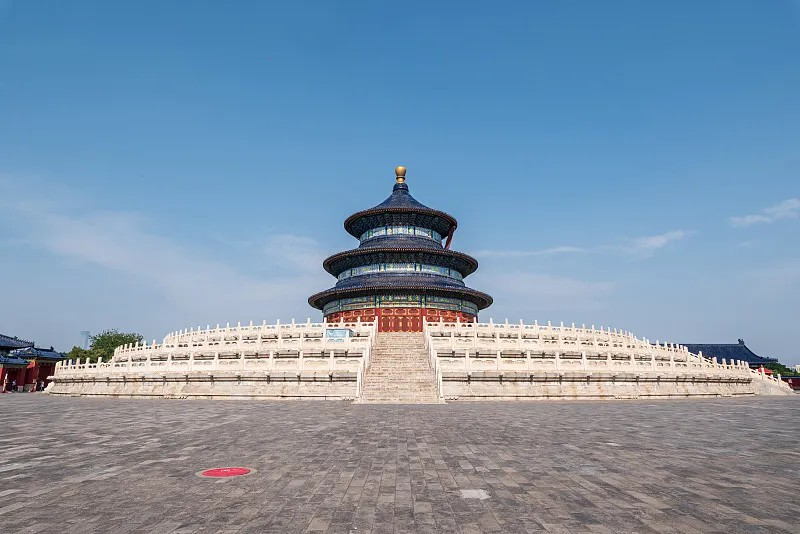Heaven: (305, 165, 494, 334)
